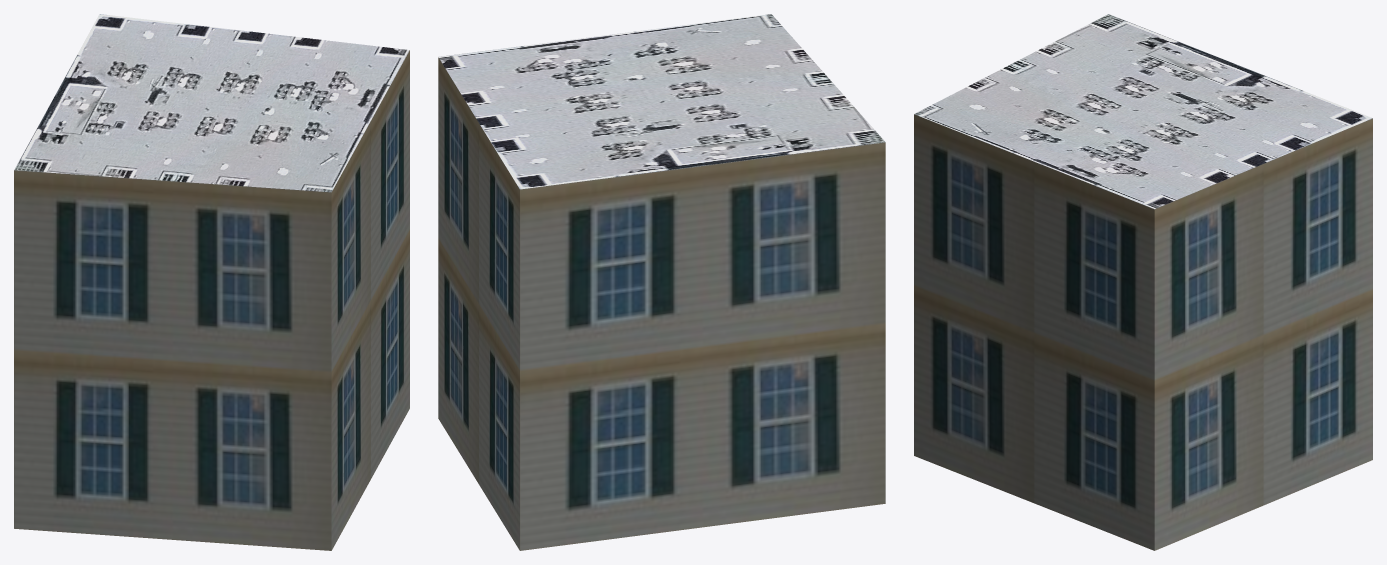
File: ResTex__1807.fbx
The picture shows the model from 3 angles, left to right: view 1: azimuth 30°, elevation 25°; view 2: azimuth 150°, elevation 25°; view 3: azimuth 270°, elevation 25°; orthographic projection. The views are drawn at different scales.
Parts seen in each view (by area): view 1: CityEngineMaterial_7_m, CityEngineMaterial_m; view 2: CityEngineMaterial_7_m, CityEngineMaterial_m; view 3: CityEngineMaterial_7_m, CityEngineMaterial_m.
Boxes of the visible parts, bbox=[...] form: CityEngineMaterial_7_m: bbox=[14, 50, 409, 550]; CityEngineMaterial_m: bbox=[14, 14, 409, 192]; CityEngineMaterial_7_m: bbox=[438, 57, 885, 550]; CityEngineMaterial_m: bbox=[438, 14, 885, 189]; CityEngineMaterial_7_m: bbox=[914, 114, 1372, 550]; CityEngineMaterial_m: bbox=[914, 14, 1372, 209].
Size of the model in its own units: 7.35 by 6 by 7.3.
Materials: 2 (2 with a texture image).
